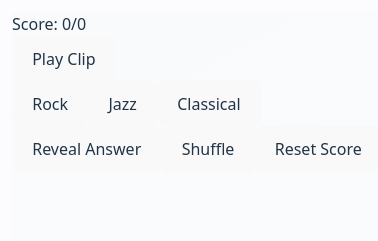
it: GenreQuiz › allows guessing and updates score
This screenshot has width=378, height=241.
Click the button "Rock".
click(50, 104)  # box [12,81,88,126]
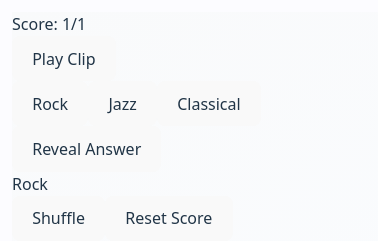
Result: the text with test id "score" shows "1/1" at [12,13,86,35]
